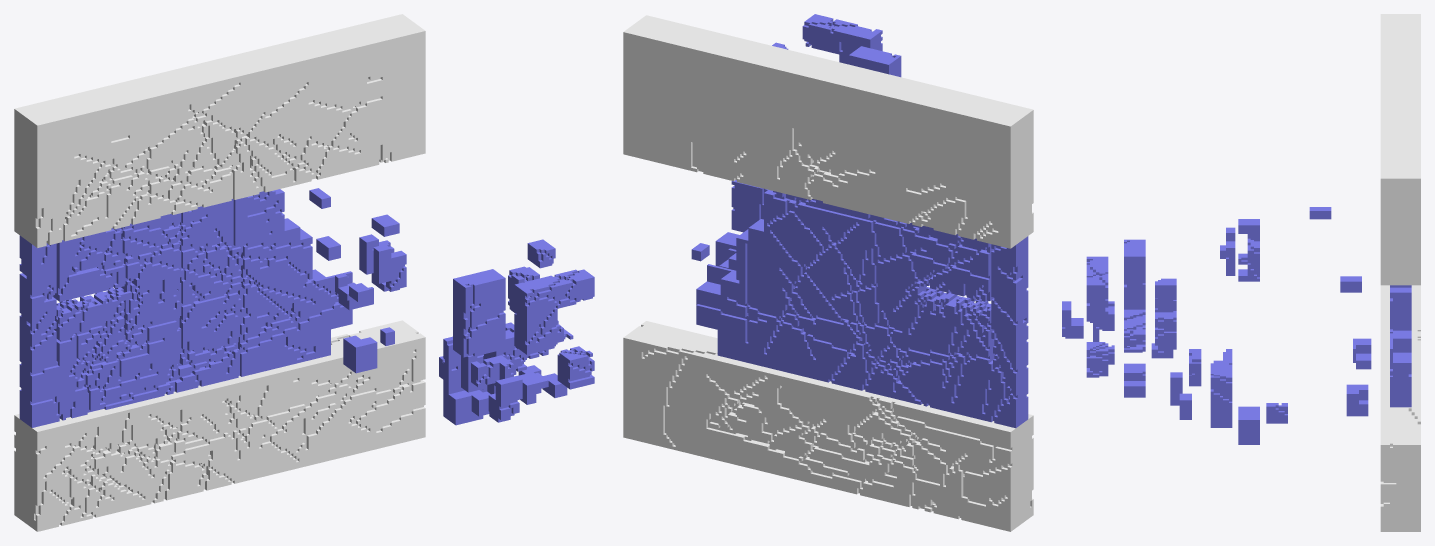
File: Operating_room_Window1-3.fbx
3 views of the same model, side by side, from view 1: azimuth 30°, elevation 25°; view 2: azimuth 150°, elevation 25°; view 3: azimuth 270°, elevation 25° (orthographic). The views are drawn at different scales.
Parts seen in each view (by area): view 1: Operating room Window1-3.002, Operating room Window1-3.001, Operating room Window1-3.000, Operating room Window1-3.012, Operating room Window1-3.018, Operating room Window1-3.016, Operating room Window1-3.026, Operating room Window1-3.006, Operating room Window1-3.010, Operating room Window1-3.014, Operating room Window1-3.011, Operating room Window1-3.007; view 2: Operating room Window1-3.002, Operating room Window1-3.001, Operating room Window1-3.000, Operating room Window1-3.018, Operating room Window1-3.016, Operating room Window1-3.012, Operating room Window1-3.024; view 3: Operating room Window1-3.002, Operating room Window1-3.000, Operating room Window1-3.001, Operating room Window1-3.012, Operating room Window1-3.016, Operating room Window1-3.018, Operating room Window1-3.025, Operating room Window1-3.024, Operating room Window1-3.026, Operating room Window1-3.007, Operating room Window1-3.010, Operating room Window1-3.014 (+4 smaller).
Boxes of the visible parts, x1=… form: Operating room Window1-3.002: x1=14, y1=14, x2=425, y2=247; Operating room Window1-3.001: x1=19, y1=189, x2=352, y2=427; Operating room Window1-3.000: x1=14, y1=320, x2=425, y2=531; Operating room Window1-3.012: x1=453, y1=269, x2=573, y2=385; Operating room Window1-3.018: x1=514, y1=269, x2=594, y2=354; Operating room Window1-3.016: x1=443, y1=322, x2=516, y2=425; Operating room Window1-3.026: x1=557, y1=346, x2=594, y2=389; Operating room Window1-3.006: x1=373, y1=245, x2=406, y2=290; Operating room Window1-3.010: x1=488, y1=376, x2=522, y2=420; Operating room Window1-3.014: x1=343, y1=335, x2=377, y2=373; Operating room Window1-3.011: x1=471, y1=355, x2=513, y2=386; Operating room Window1-3.007: x1=359, y1=234, x2=394, y2=291; Operating room Window1-3.002: x1=623, y1=15, x2=1033, y2=248; Operating room Window1-3.001: x1=696, y1=190, x2=1028, y2=428; Operating room Window1-3.000: x1=623, y1=321, x2=1033, y2=531; Operating room Window1-3.018: x1=802, y1=14, x2=882, y2=64; Operating room Window1-3.016: x1=731, y1=180, x2=767, y2=232; Operating room Window1-3.012: x1=849, y1=46, x2=901, y2=77; Operating room Window1-3.024: x1=715, y1=232, x2=739, y2=266; Operating room Window1-3.002: x1=1380, y1=14, x2=1420, y2=285; Operating room Window1-3.000: x1=1380, y1=285, x2=1420, y2=531; Operating room Window1-3.001: x1=1390, y1=285, x2=1411, y2=407; Operating room Window1-3.012: x1=1124, y1=239, x2=1145, y2=352; Operating room Window1-3.016: x1=1210, y1=349, x2=1232, y2=427; Operating room Window1-3.018: x1=1086, y1=256, x2=1108, y2=322; Operating room Window1-3.025: x1=1155, y1=298, x2=1176, y2=349; Operating room Window1-3.024: x1=1238, y1=406, x2=1259, y2=444; Operating room Window1-3.026: x1=1086, y1=342, x2=1108, y2=377; Operating room Window1-3.007: x1=1238, y1=234, x2=1259, y2=281; Operating room Window1-3.010: x1=1062, y1=301, x2=1083, y2=338; Operating room Window1-3.014: x1=1346, y1=384, x2=1368, y2=416.
Bounding box in the file's own units: 12.6 × 12.6 × 11.6.
